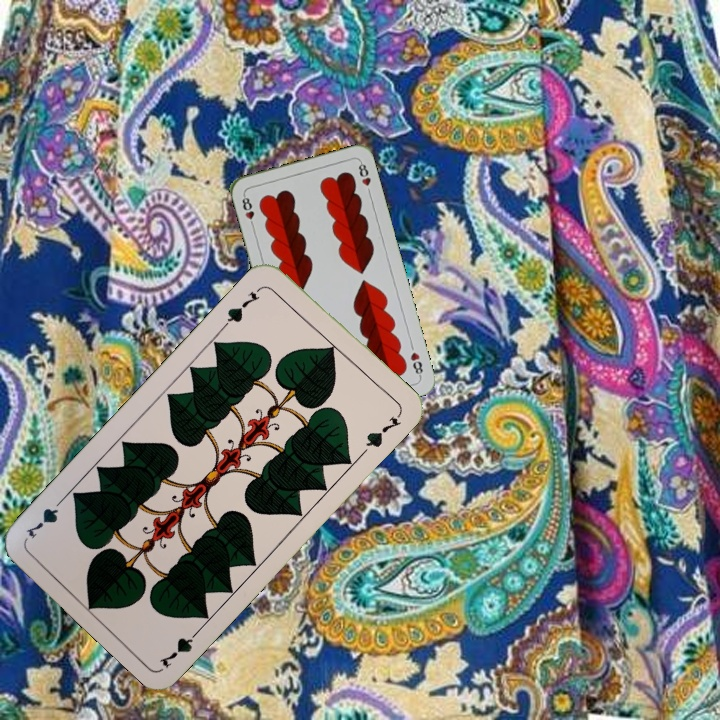G7: (155, 622, 205, 671), (220, 282, 266, 329)
H8: (238, 191, 257, 231), (406, 348, 425, 380)
